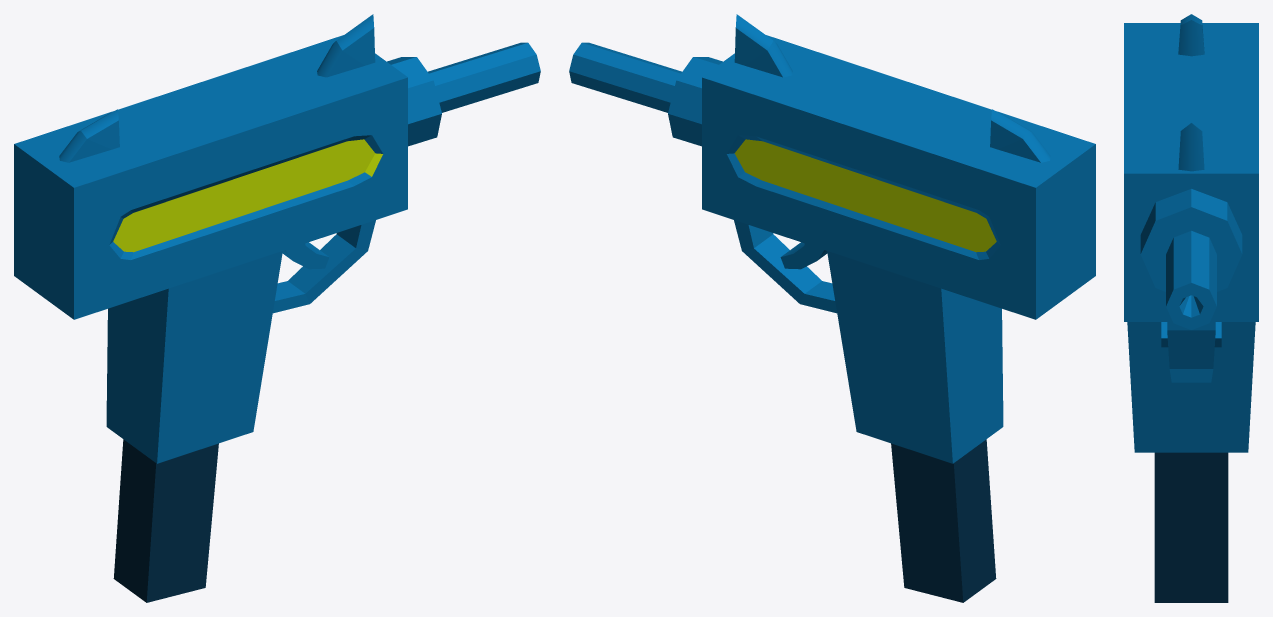
The model's file is Blaster7.fbx.
3 views of the same model, side by side, from view 1: azimuth 30°, elevation 25°; view 2: azimuth 150°, elevation 25°; view 3: azimuth 270°, elevation 25° (orthographic). The views are drawn at different scales.
Visible parts, largest first — view 1: pCube13, pPipe13, pCube14, pCube17, pCube16, pCube15; view 2: pCube13, pPipe13, pCube14, pCube17, pCube16, pCube15; view 3: pCube13, pPipe13, pCube14, pCube17, pCube16, pCube15.
Part boxes in pixels (x1,y1,x2,y2): pCube13: (14, 35, 407, 602); pPipe13: (387, 42, 540, 146); pCube14: (273, 220, 375, 313); pCube17: (317, 14, 375, 77); pCube16: (59, 109, 119, 162); pCube15: (282, 242, 329, 269); pCube13: (702, 35, 1095, 602); pPipe13: (569, 42, 722, 146); pCube14: (734, 220, 836, 313); pCube17: (734, 14, 792, 77); pCube16: (990, 109, 1050, 162); pCube15: (780, 242, 827, 269); pCube13: (1124, 23, 1258, 602); pPipe13: (1140, 189, 1242, 329); pCube14: (1167, 322, 1215, 382); pCube17: (1178, 123, 1204, 171); pCube16: (1178, 14, 1204, 56); pCube15: (1161, 322, 1221, 347).
Size of the model in its own units: 2.69 by 2.73 by 0.5733.
